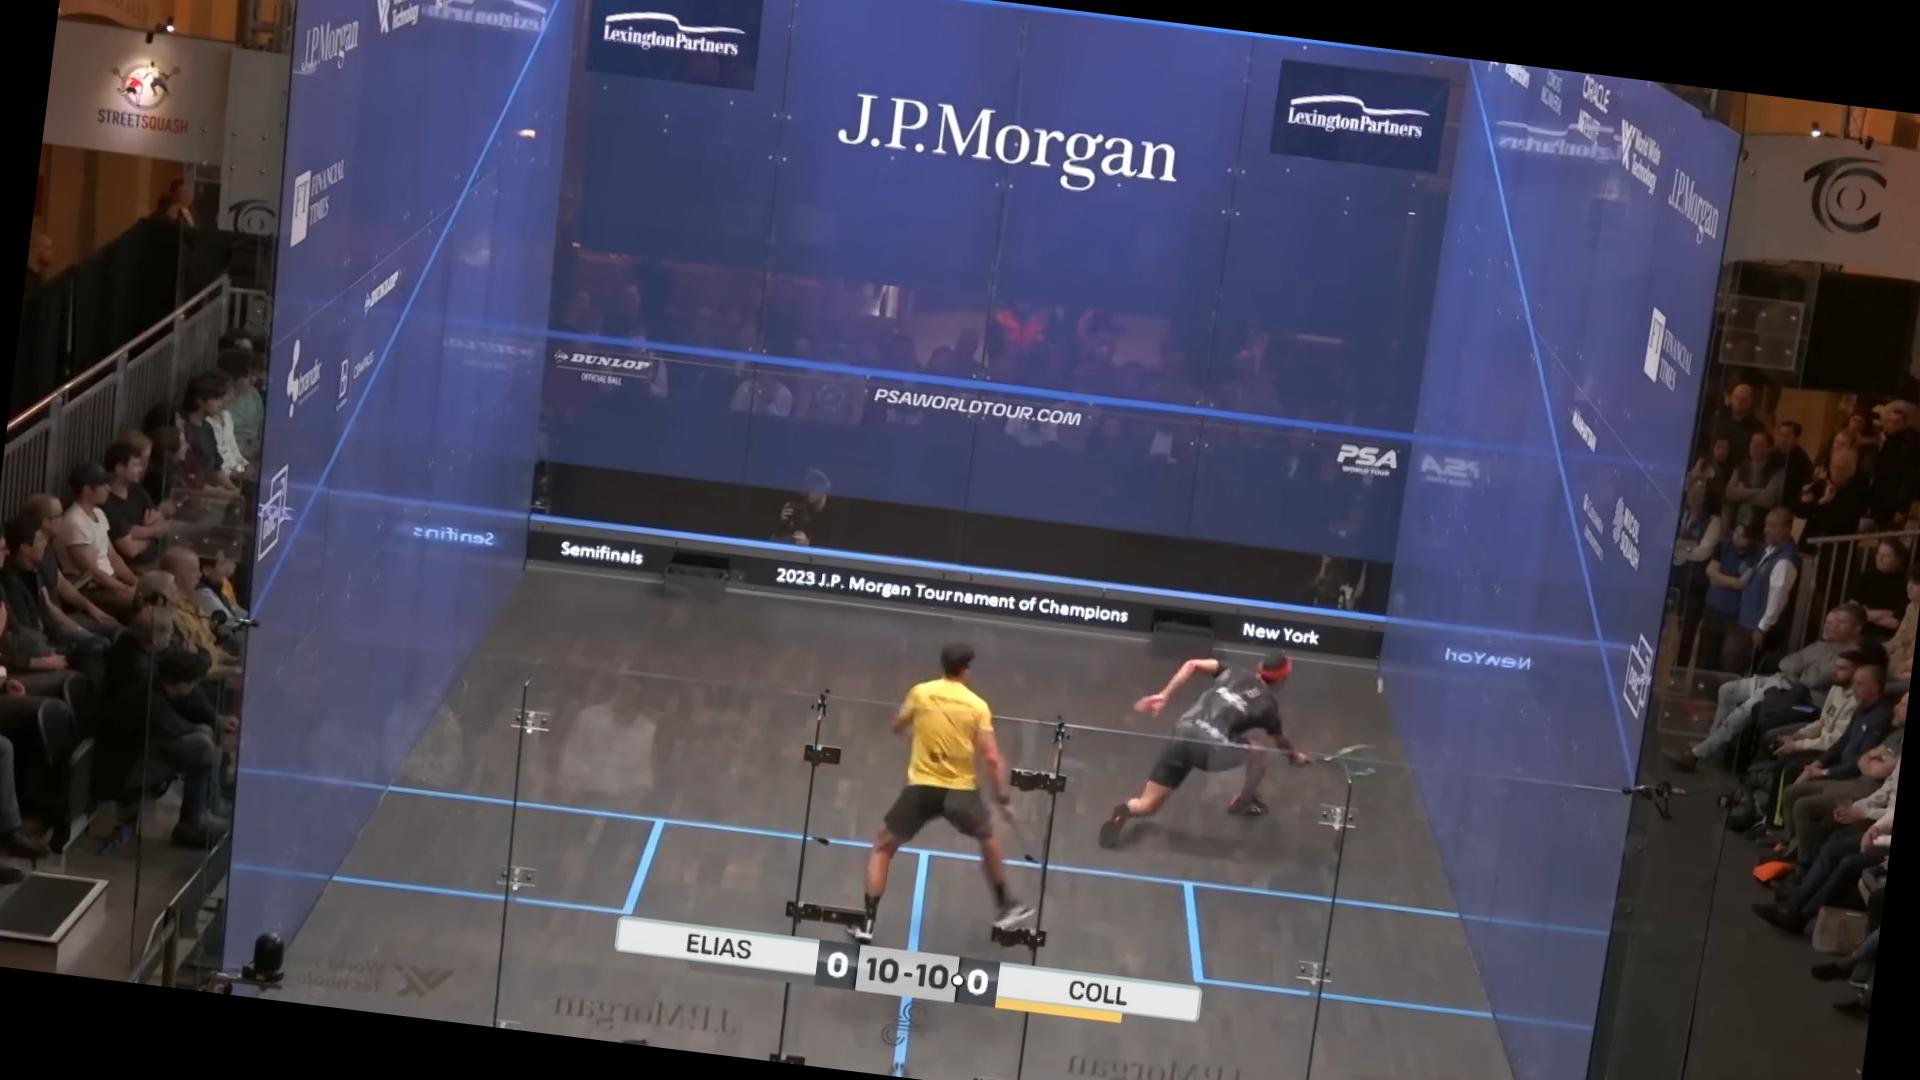Racket: (1300, 728, 1386, 786)
